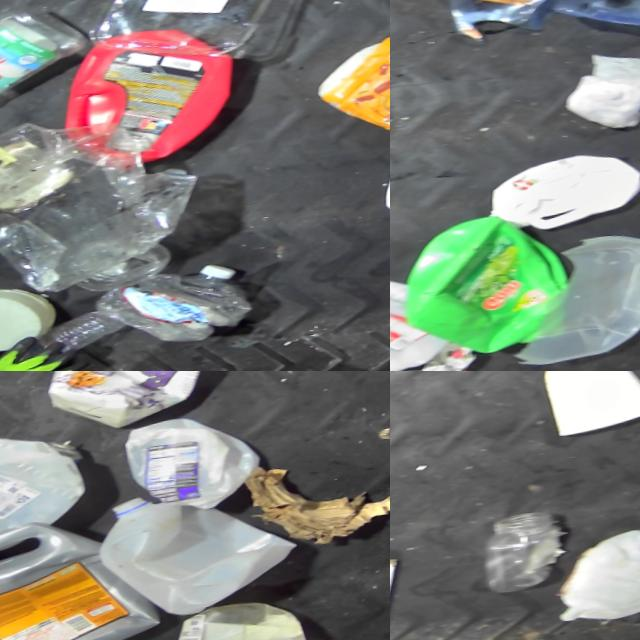can: (418, 0, 553, 31)
milk_jug: (96, 487, 300, 632), (122, 418, 261, 517), (487, 160, 639, 241), (0, 433, 80, 556), (552, 540, 640, 640)
non_white_jug: (398, 211, 577, 369), (61, 26, 233, 171), (0, 523, 166, 640), (319, 31, 390, 151), (77, 371, 199, 420)
plastic_bottle: (101, 262, 272, 348), (483, 518, 552, 608)
